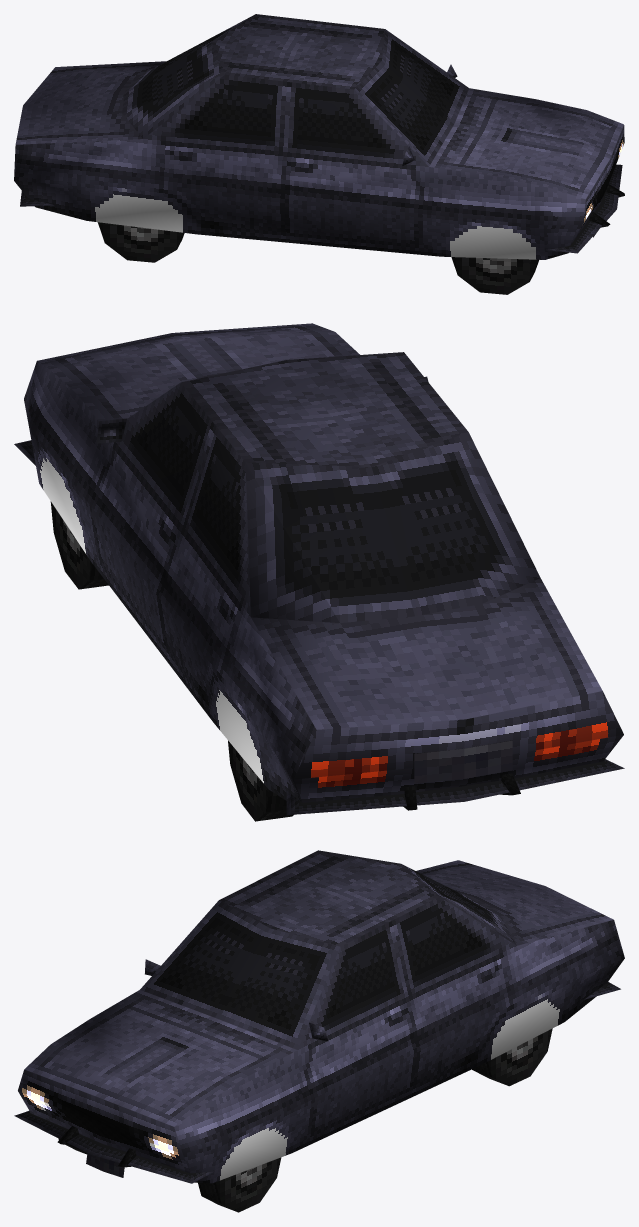
Rendered from Car.glb.
The picture shows the model from 3 angles, top to bottom: view 1: azimuth 30°, elevation 25°; view 2: azimuth 150°, elevation 25°; view 3: azimuth 270°, elevation 25°; orthographic projection. The views are drawn at different scales.
Visible parts, largest first — view 1: Car, Tire.1, Tire.2; view 2: Car, LicensePlate, Tire.3, Tire.4; view 3: Car, Tire.4, Tire.3, LicensePlate.
Boxes of the visible parts, x1,y1,x2,y2 form: Car: [14, 14, 624, 259]; Tire.1: [451, 257, 538, 294]; Tire.2: [98, 222, 184, 262]; Car: [14, 323, 624, 815]; LicensePlate: [414, 740, 512, 783]; Tire.3: [228, 740, 293, 821]; Tire.4: [50, 501, 108, 589]; Car: [14, 850, 624, 1183]; Tire.4: [198, 1157, 281, 1212]; Tire.3: [472, 1028, 552, 1086]; LicensePlate: [86, 1153, 124, 1177].
Size of the model in its own units: 4.86 by 1.72 by 4.65.
3 materials, 3 textured.
